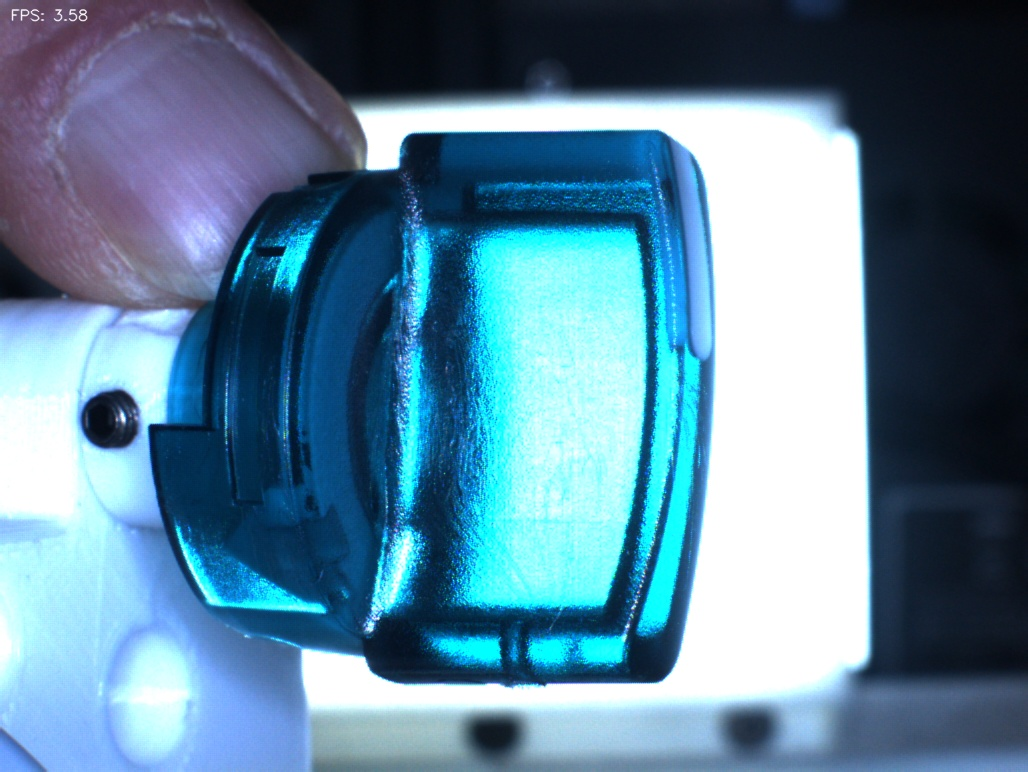Bulle: (464, 587, 561, 713)
